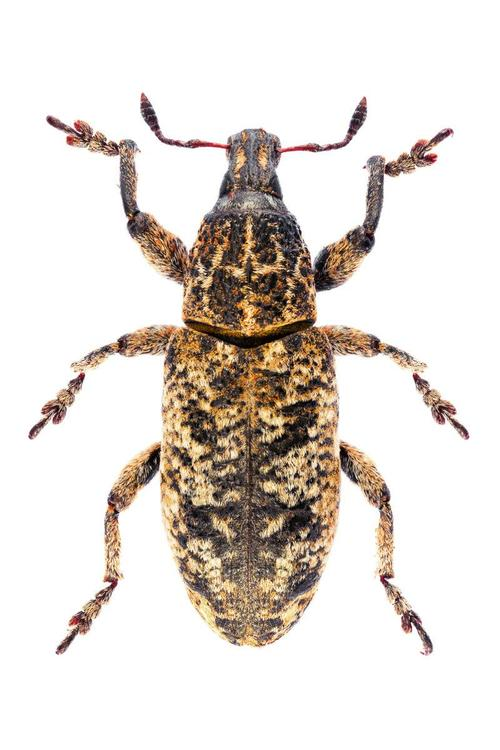Curculionidae: (25, 91, 470, 657)
